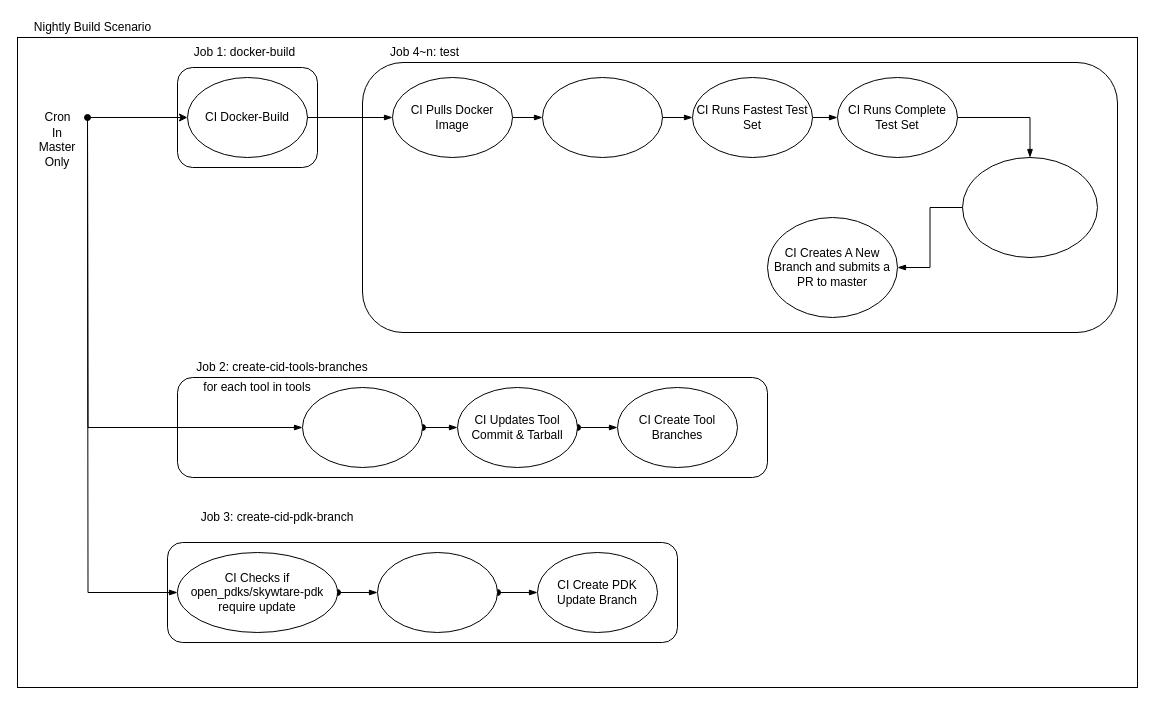
The diagram is 1155 pixels wide and 705 high, and some of its shapes have lost their labels. Here are the shapes that lost their labels. From the top down, the centre of each, then its label:
At [602,117]: "CI Builds PDK".
At [1030,207]: "CI Updates Tag in Makefile and Docs & Creates new tag".
At [362,427]: "CI Checks if tool requires update".
At [437,592]: "CI Updates PDK".
